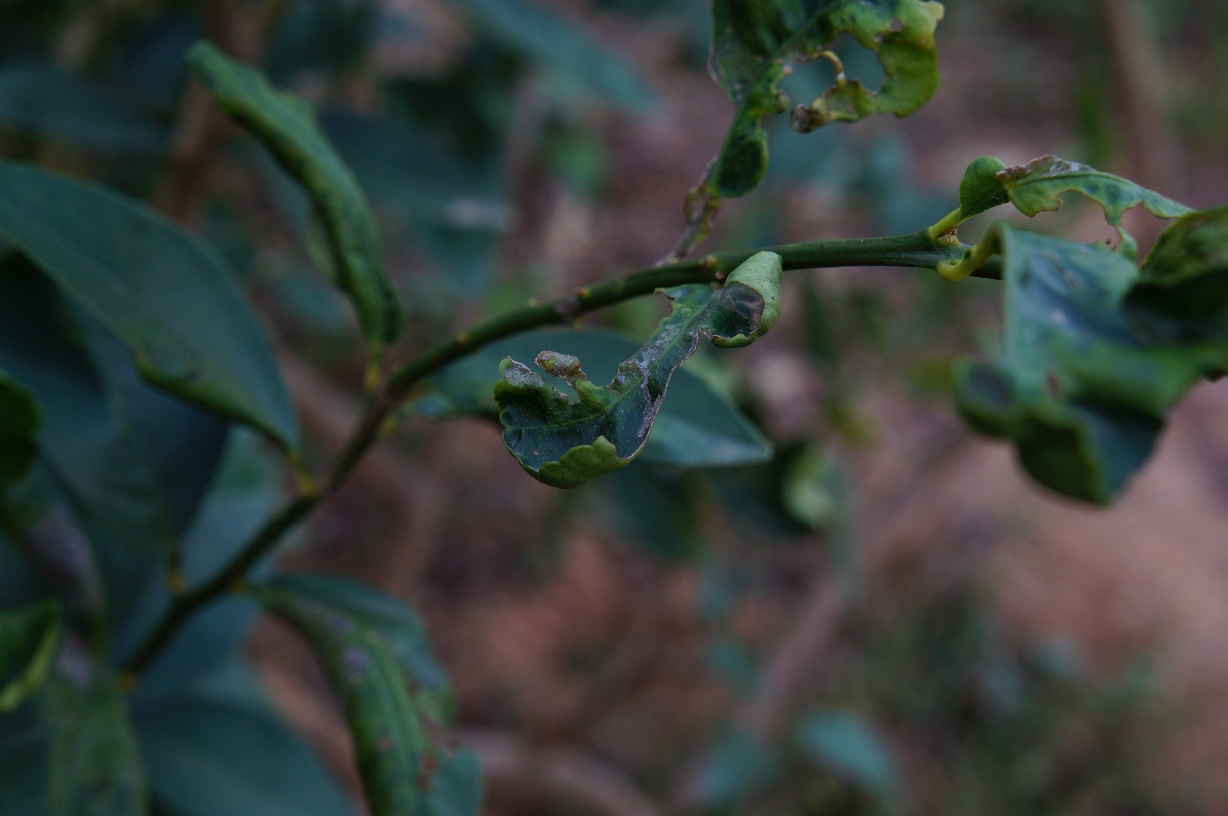damage: (491, 245, 793, 509), (695, 0, 951, 203), (950, 140, 1224, 264)
